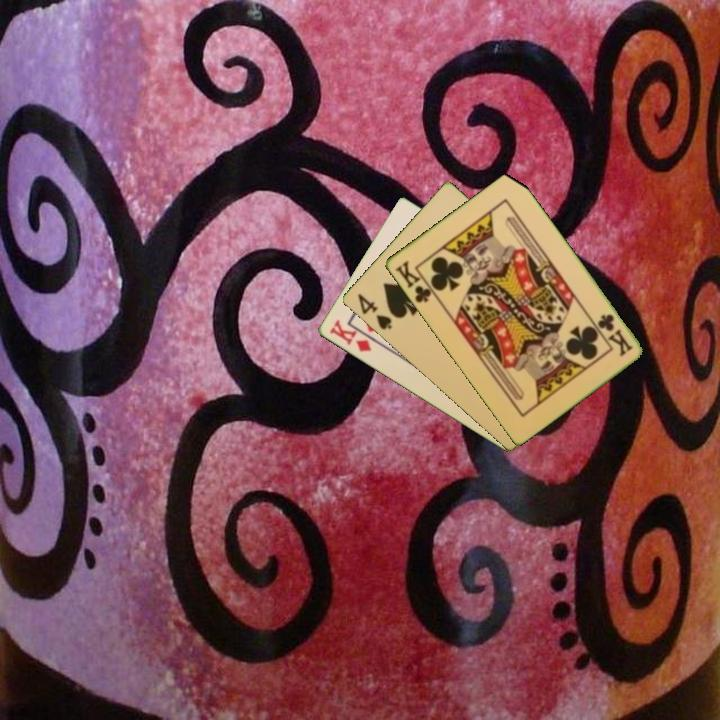4s: (353, 290, 395, 333)
Kc: (391, 256, 438, 306), (594, 310, 635, 359)
Kd: (325, 316, 374, 355)
